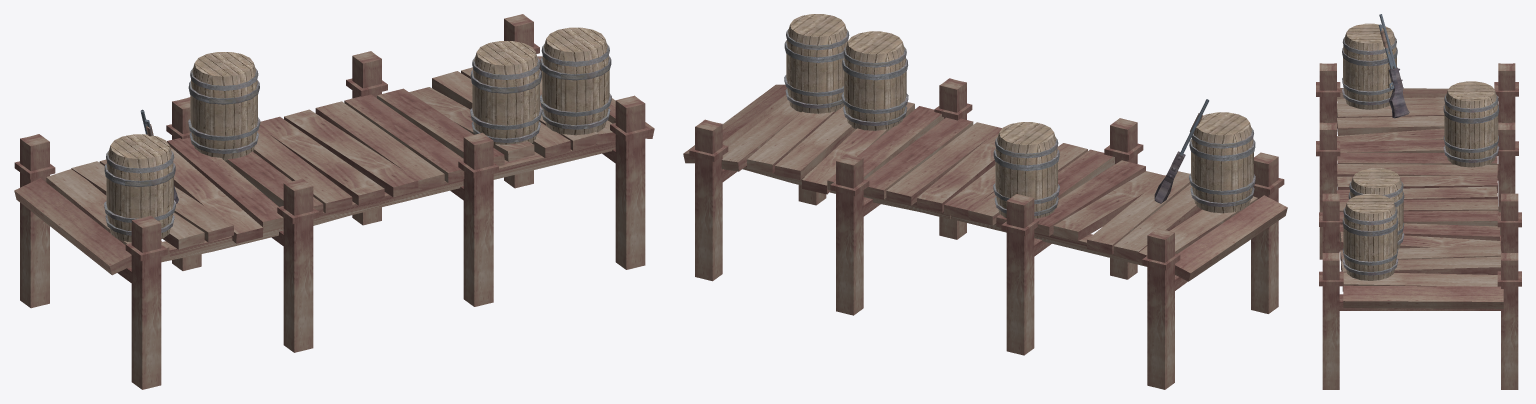
File: dock.glb
The picture shows the model from 3 angles, left to right: view 1: azimuth 30°, elevation 25°; view 2: azimuth 150°, elevation 25°; view 3: azimuth 270°, elevation 25°; orthographic projection. The views are drawn at different scales.
Parts seen in each view (by area): view 1: Plank008, Plank009, Pole1, Pole002, Cylinder001, Cylinder003, Cylinder002, Cylinder004, Undersite plank001, Rim, Rim002, Rim001 (+2 smaller); view 2: Plank009, Plank008, Pole1, Pole002, Cylinder004, Cylinder002, Cylinder001, Cylinder003, Rim001, Rim003, Rim, Rim002 (+3 smaller); view 3: Plank009, Plank008, Pole002, Pole1, Cylinder001, Cylinder003, Cylinder004, Cylinder002, Rim002, Rim, Rim003, Handvat (+2 smaller).
Boxes of the visible parts, x1,y1,x2,y2 form: Plank008: (14,116,384,275); Plank009: (284,56,654,197); Pole1: (14,97,319,389); Pole002: (346,14,650,306); Cylinder001: (542,27,609,135); Cylinder003: (190,52,257,160); Cylinder002: (472,41,539,147); Cylinder004: (106,134,173,242); Undersite plank001: (381,142,615,207); Rim: (540,44,611,129); Rim002: (188,68,260,153); Rim001: (470,57,542,142); Plank009: (683,84,1001,212); Plank008: (944,143,1287,281); Pole1: (1001,118,1284,389); Pole002: (689,78,972,315); Cylinder004: (1191,112,1253,213); Cylinder002: (844,31,906,130); Cylinder001: (786,14,848,113); Cylinder003: (995,122,1057,218); Rim001: (841,46,908,125); Rim003: (1189,127,1255,206); Rim: (784,29,849,108); Rim002: (993,137,1059,215); Plank009: (1336,186,1503,308); Plank008: (1337,88,1497,193); Pole002: (1319,193,1521,389); Pole1: (1316,63,1518,259); Cylinder001: (1343,194,1397,280); Cylinder003: (1444,81,1498,167); Cylinder004: (1343,23,1396,109); Cylinder002: (1349,168,1403,248); Rim002: (1443,94,1499,162); Rim: (1342,207,1398,275); Rim003: (1342,37,1397,105); Handvat: (1388,67,1409,118).
Size of the model in its own units: 181 by 76.37 by 73.46.
6 materials, 6 textured.
